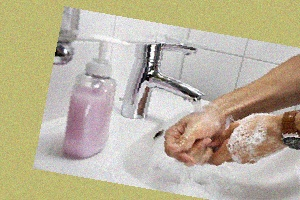washing hand: (114, 35, 299, 198)
